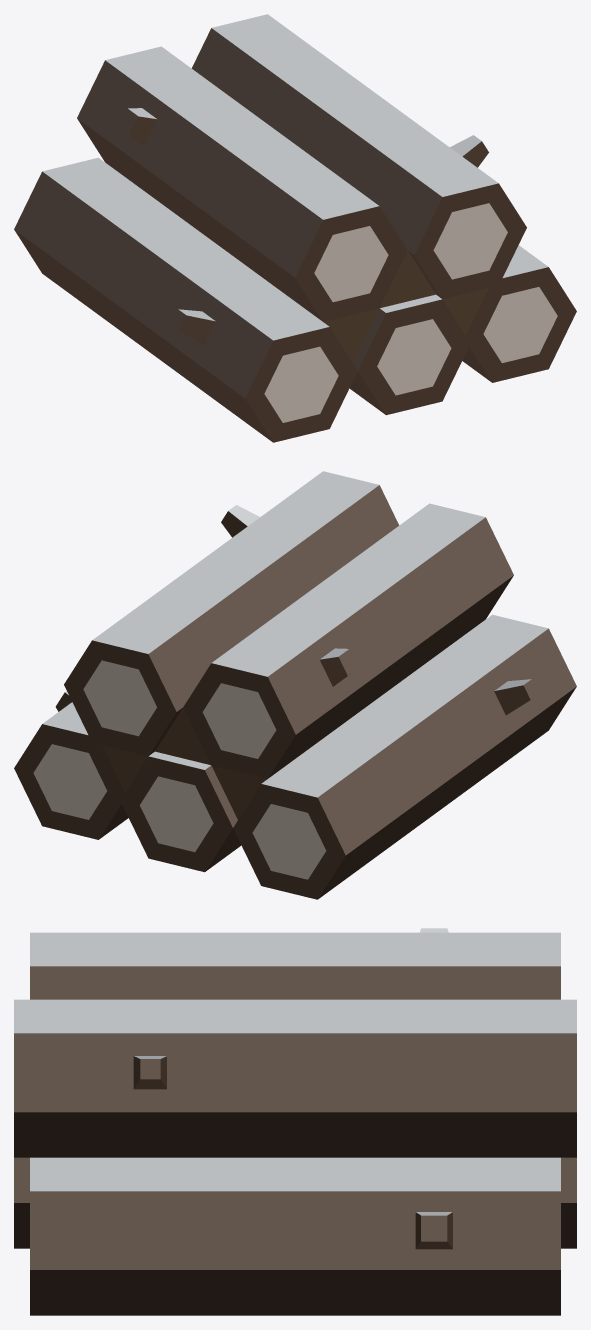
Rendered from sw_logs.glb.
3 views of the same model, one above another, from view 1: azimuth 30°, elevation 25°; view 2: azimuth 150°, elevation 25°; view 3: azimuth 270°, elevation 25° (orthographic). The views are drawn at different scales.
Parts seen in each view (by area): view 1: sw_logs; view 2: sw_logs; view 3: sw_logs.
Part boxes in pixels (x1,y1,x2,y2): sw_logs: (14, 14, 576, 442); sw_logs: (14, 471, 576, 899); sw_logs: (14, 928, 576, 1315).
Bounding box in the file's own units: 1.65 × 0.9005 × 1.85.
